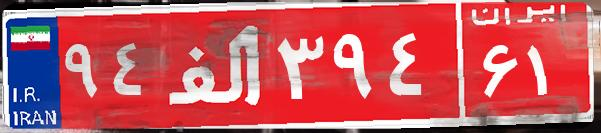1: (525, 38, 570, 115)
3: (273, 28, 330, 110)
4: (385, 28, 445, 110), (110, 28, 158, 105)
6: (475, 38, 525, 113)
9: (330, 28, 385, 110), (57, 26, 110, 107)
الف: (158, 15, 273, 115)
